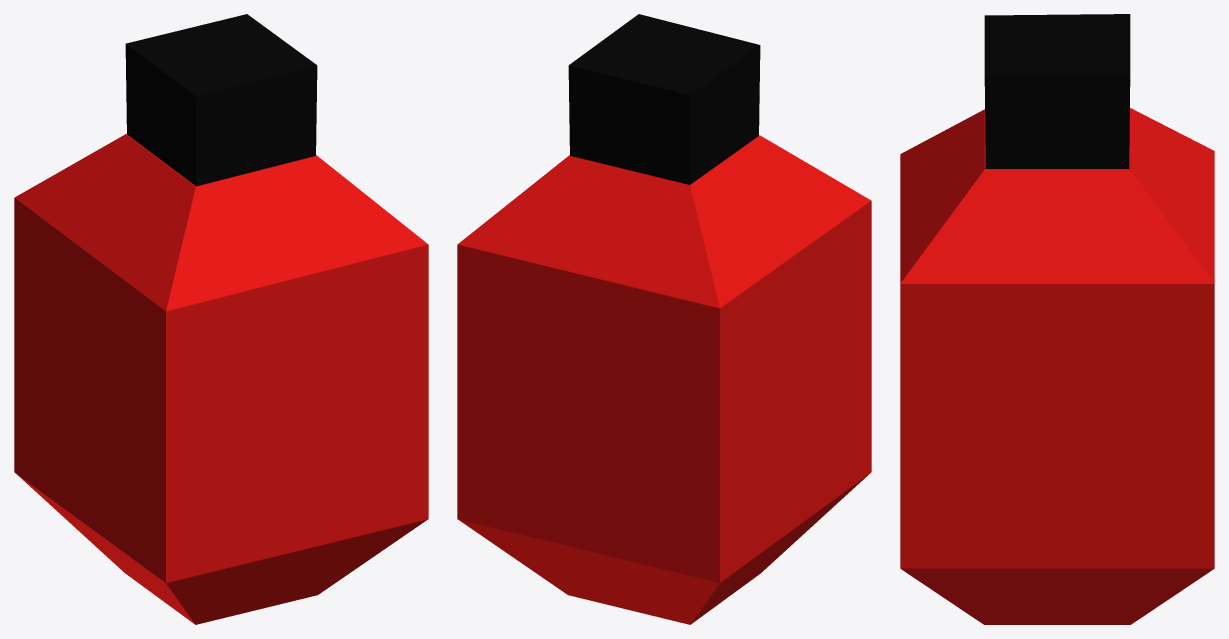
Rendered from bottle.glb.
3 views of the same model, side by side, from view 1: azimuth 30°, elevation 25°; view 2: azimuth 150°, elevation 25°; view 3: azimuth 270°, elevation 25° (orthographic). The views are drawn at different scales.
Visible parts, largest first — view 1: Cube; view 2: Cube; view 3: Cube.
Boxes of the visible parts, bbox=[...] form: Cube: bbox=[14, 14, 428, 624]; Cube: bbox=[457, 14, 871, 624]; Cube: bbox=[900, 14, 1214, 624].
Size of the model in its own units: 2 by 3.86 by 2.
